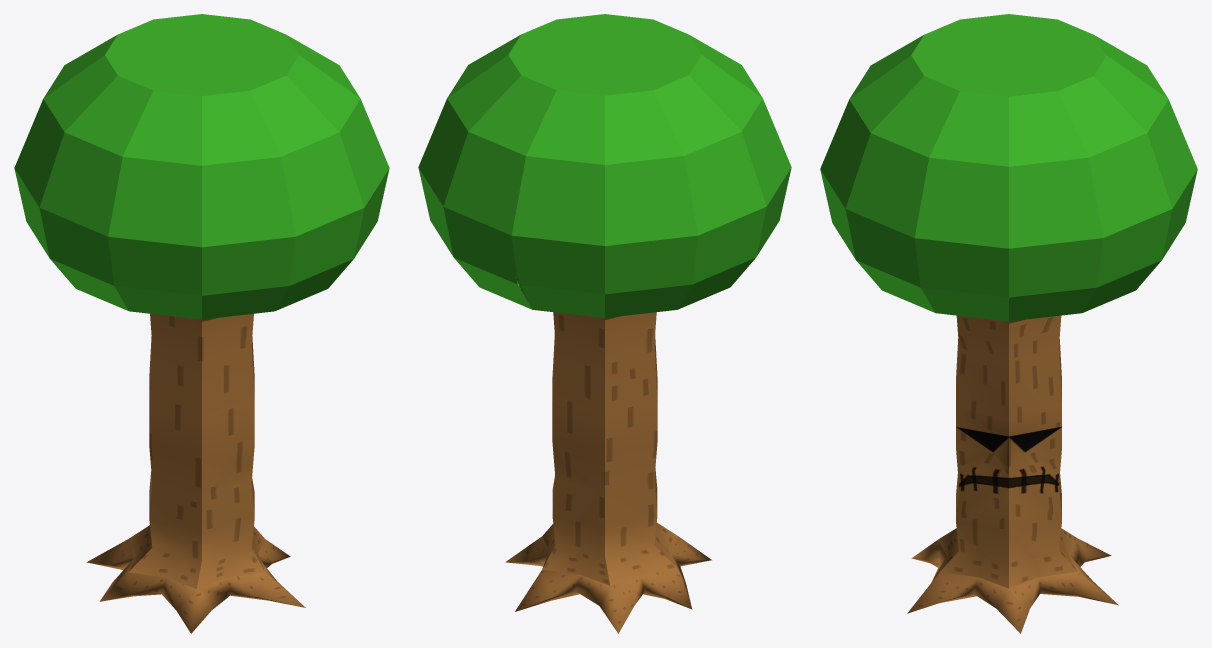
The model's file is Small_Woods.obj.
3 renders of one model, left to right at view 1: azimuth 30°, elevation 25°; view 2: azimuth 150°, elevation 25°; view 3: azimuth 270°, elevation 25°, orthographic.
Visible parts, largest first — view 1: pasted__pSphere1 group1, group1 pCylinder1; view 2: pasted__pSphere1 group1, group1 pCylinder1; view 3: pasted__pSphere1 group1, group1 pCylinder1.
Part boxes in pixels (x1,y1,x2,y2): pasted__pSphere1 group1: [14, 14, 389, 319]; group1 pCylinder1: [86, 313, 305, 633]; pasted__pSphere1 group1: [418, 14, 791, 317]; group1 pCylinder1: [505, 312, 711, 633]; pasted__pSphere1 group1: [820, 14, 1197, 321]; group1 pCylinder1: [907, 315, 1118, 633].
Bounding box in the file's own units: 3.82 × 5.94 × 3.82.
Materials: 1 (1 with a texture image).
